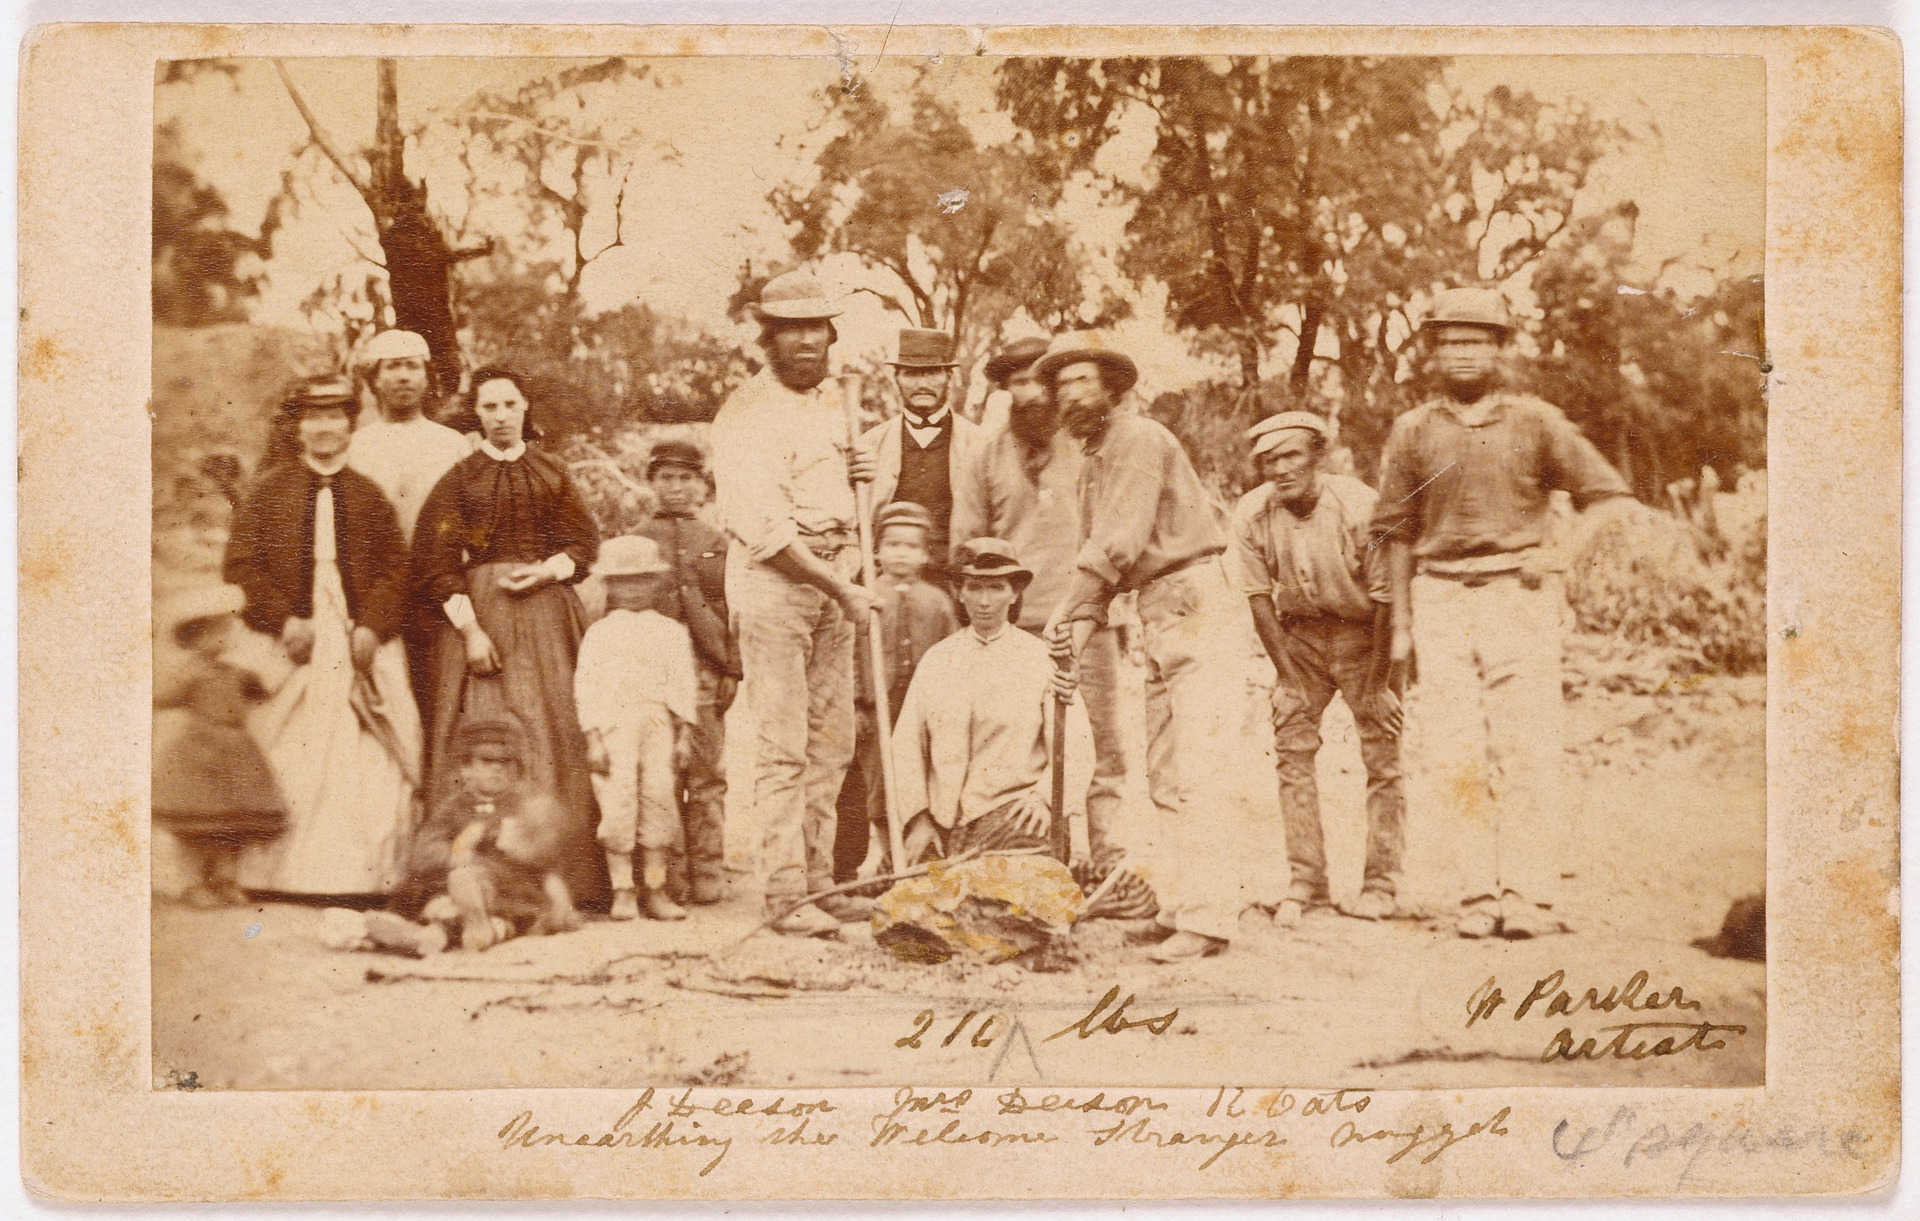kid: (565, 531, 709, 927), (151, 582, 292, 918), (616, 406, 737, 707), (438, 728, 575, 955), (848, 487, 964, 726)
